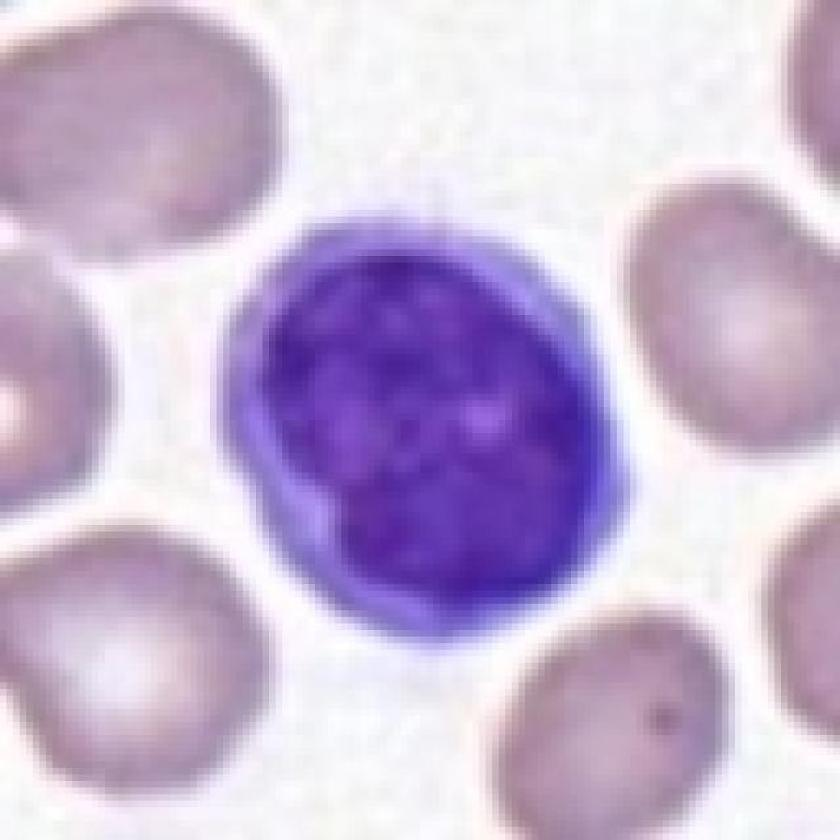lymphocyte: (203, 203, 651, 652)
